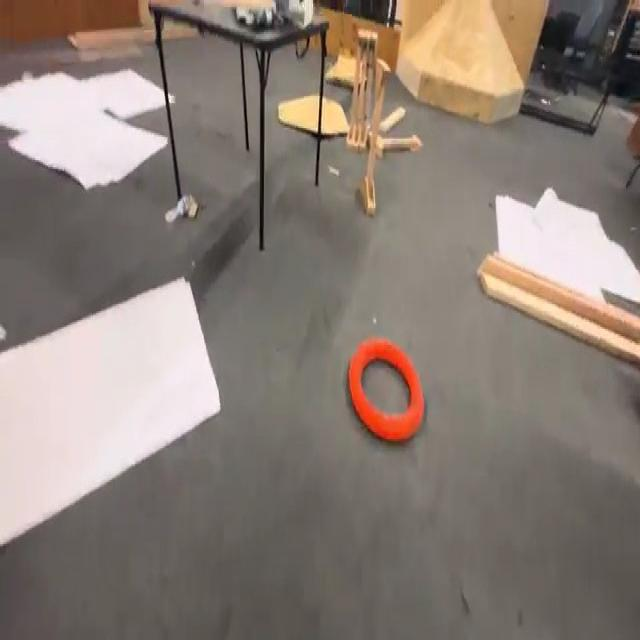note: (347, 340, 422, 440)
